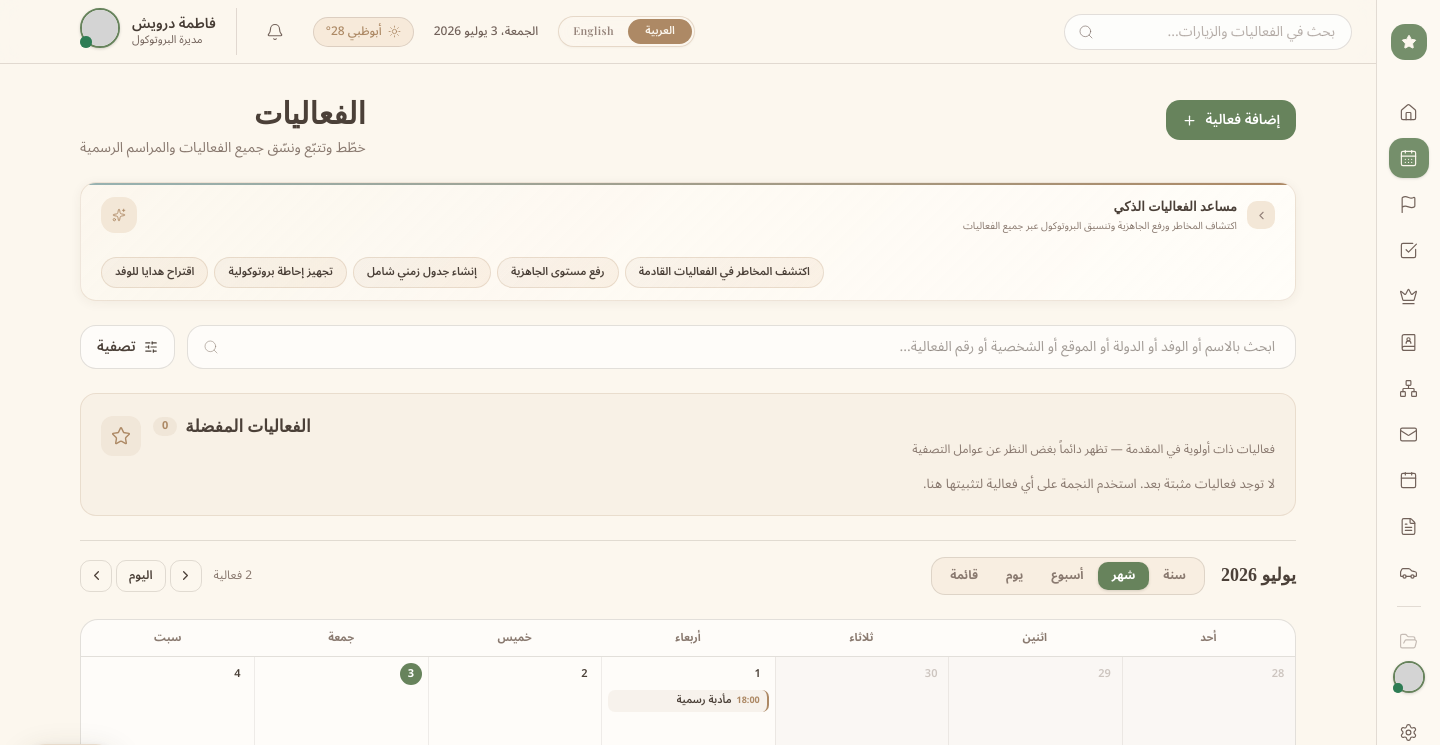
Test: Events page › filters events by the search box
Click the button "قائمة". click: (964, 576)
box: top-left (936, 562), bottom-right (992, 590)
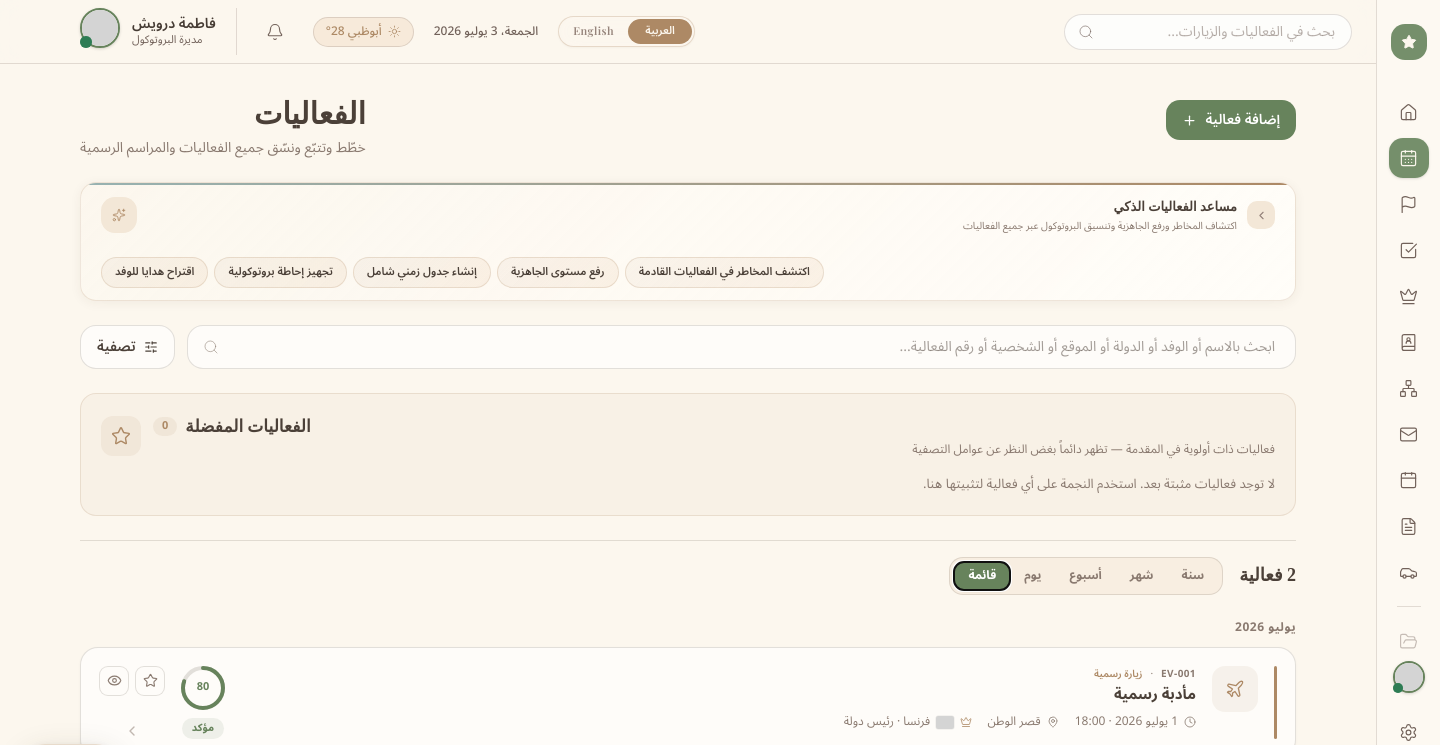
Expected: the text "مأدبة رسمية" is shown, top-left (1114, 678), bottom-right (1196, 710)
Type "اجتماع" into the field with placeholder "ابحث بالاسم أو الوفد أو الدولة أو الموقع أو الشخصية أو رقم الفعالية...". click: (741, 346)
box: top-left (187, 324), bottom-right (1296, 368)
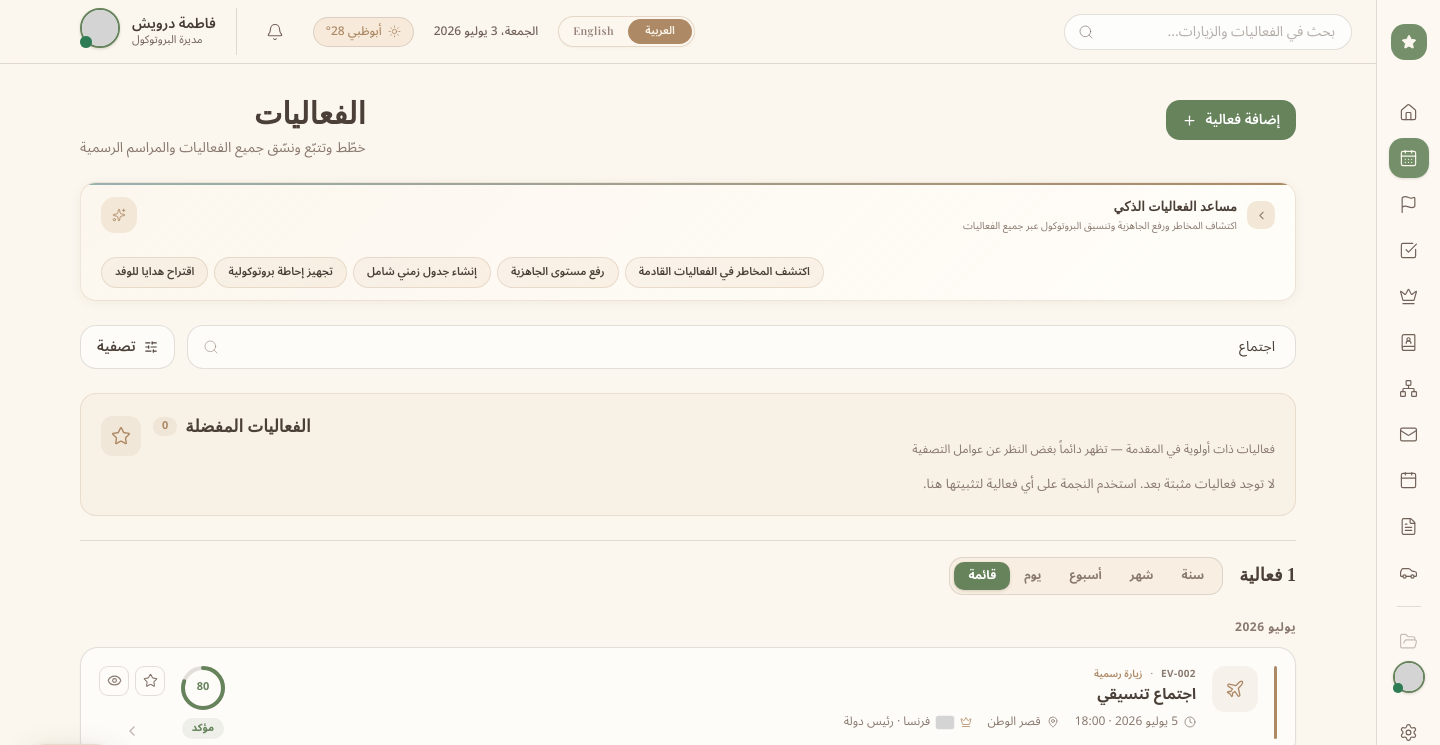
Expected: the text "اجتماع تنسيقي" is shown, top-left (1097, 678), bottom-right (1196, 710)
Result: the link "مأدبة رسمية" is gone
